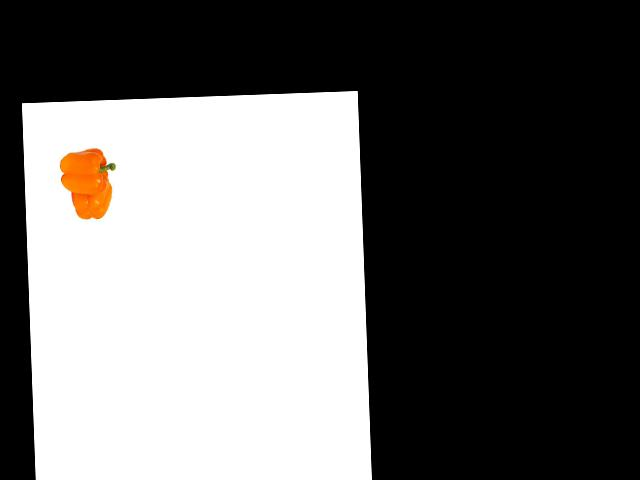bell_pepper: (65, 177, 114, 223)
